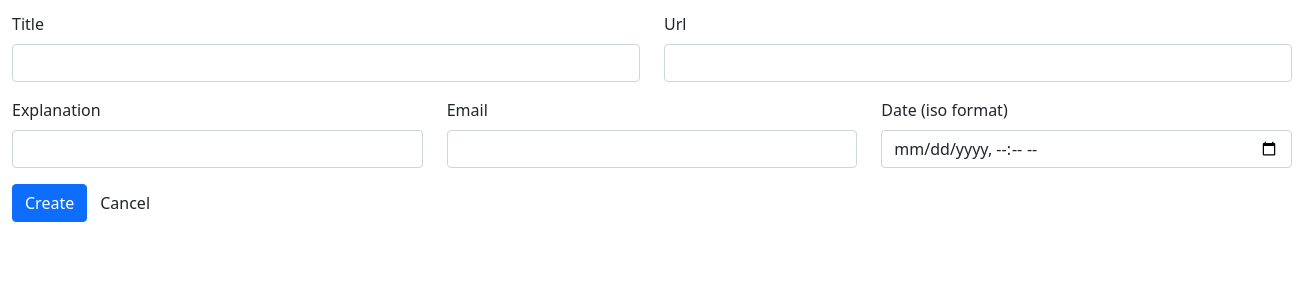
Test: ArticlesForm tests › Correct Error messsages on missing input
This screenshot has width=1304, height=289.
Click the button with test id "ArticlesForm-submit" at (50, 203), box [12,184,87,222]
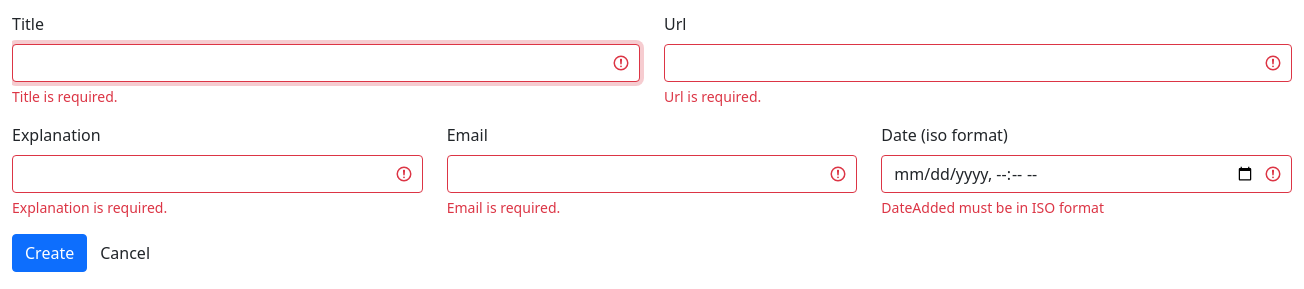
Expected: the text "Title is required." is shown, [12,87,118,106]
Expected: the text "Url is required." is shown, [664,87,761,106]
Expected: the text "Explanation is required." is shown, [12,198,167,217]
